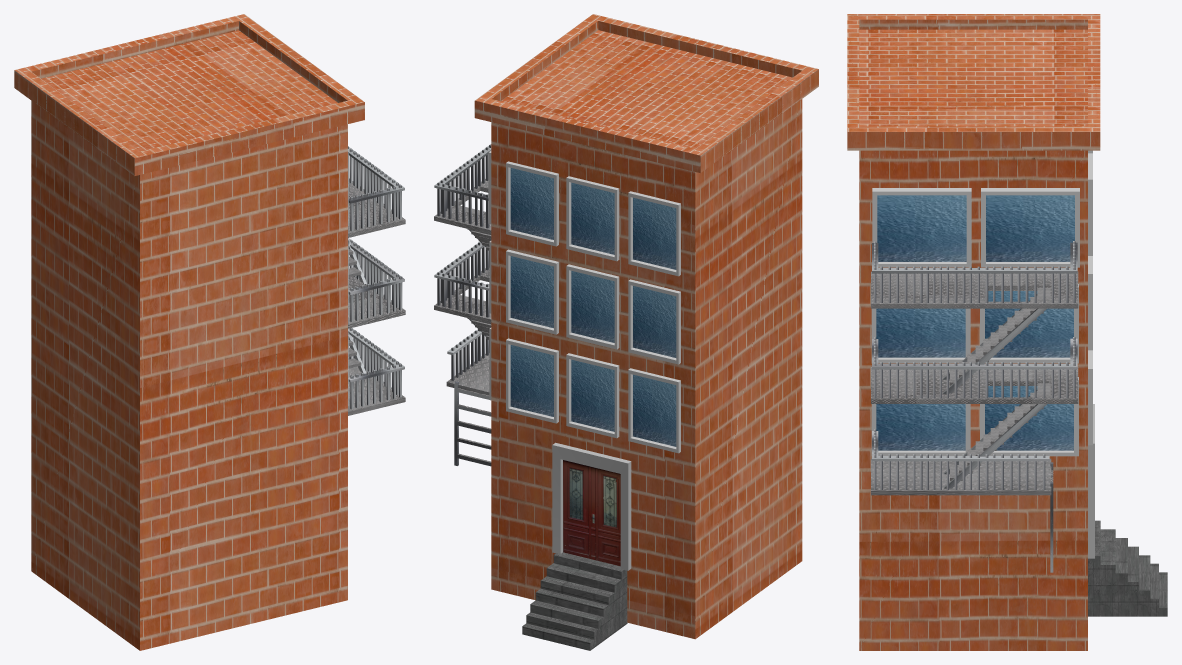
File: EdificioBase_FBX_1.fbx
3 views of the same model, side by side, from view 1: azimuth 30°, elevation 25°; view 2: azimuth 150°, elevation 25°; view 3: azimuth 270°, elevation 25° (orthographic). The views are drawn at different scales.
Parts seen in each view (by area): view 1: STRUCTURE, FLOOR_B (×2), FLOOR_1, RAILING_3, RAILING_1, RAILING_2; view 2: STRUCTURE, ENTRANCE_DOOR, ENTRANCE_STAIRS, BASE_WINDOW_F2, BASE_WINDOW_F5, BASE_WINDOW_F8, BASE_WINDOW_F4, BASE_WINDOW_F6, BASE_WINDOW_F1, BASE_WINDOW_F3, BASE_WINDOW_F7, BASE_WINDOW_F9 (+5 smaller); view 3: STRUCTURE, FLOOR_B (×2), BASE_WINDOW_L1, BASE_WINDOW_L2, ENTRANCE_STAIRS, BASE_WINDOW_L3, BASE_WINDOW_L5, FLOOR_1, BASE_WINDOW_L4, BASE_WINDOW_L6, L1 (×2), RAILING_3 (+6 smaller).
Boxes of the visible parts, x1,y1,x2,y2 form: STRUCTURE: (14,14,364,650); FLOOR_B (×2): (348,178,405,328); FLOOR_1: (348,357,405,415); RAILING_3: (348,147,404,203); RAILING_1: (348,328,404,382); RAILING_2: (348,238,404,294); STRUCTURE: (474,14,818,639); ENTRANCE_DOOR: (552,442,631,570); ENTRANCE_STAIRS: (522,552,627,650); BASE_WINDOW_F2: (566,176,619,261); BASE_WINDOW_F5: (566,264,619,349); BASE_WINDOW_F8: (566,353,619,438); BASE_WINDOW_F4: (506,249,558,334); BASE_WINDOW_F6: (628,279,680,364); BASE_WINDOW_F1: (506,161,558,246); BASE_WINDOW_F3: (628,191,680,276); BASE_WINDOW_F7: (506,338,558,423); BASE_WINDOW_F9: (628,368,680,453); STRUCTURE: (847,14,1100,650); FLOOR_B (×2): (871,271,1078,403); BASE_WINDOW_L1: (872,188,971,267); BASE_WINDOW_L2: (981,188,1079,267); ENTRANCE_STAIRS: (1088,520,1167,616); BASE_WINDOW_L3: (871,308,970,363); BASE_WINDOW_L5: (871,404,970,455); FLOOR_1: (871,458,1051,495); BASE_WINDOW_L4: (980,284,1078,363); BASE_WINDOW_L6: (980,377,1078,456); L1 (×2): (942,308,1046,488); RAILING_3: (872,242,1077,273).
Size of the model in its own units: 4.07 by 6.9 by 3.81.
